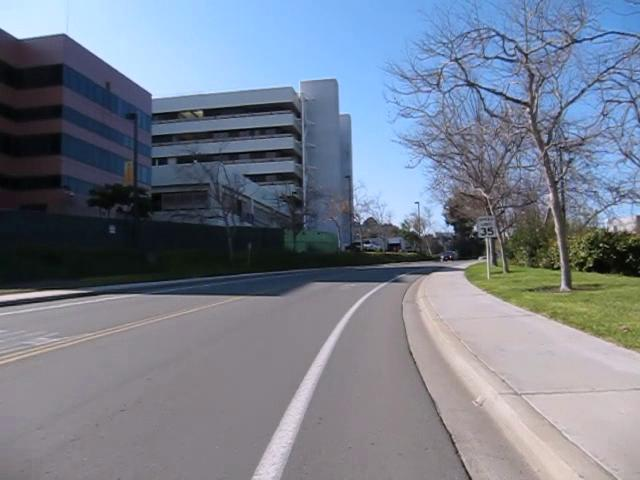speedLimit35: (476, 214, 496, 238)
